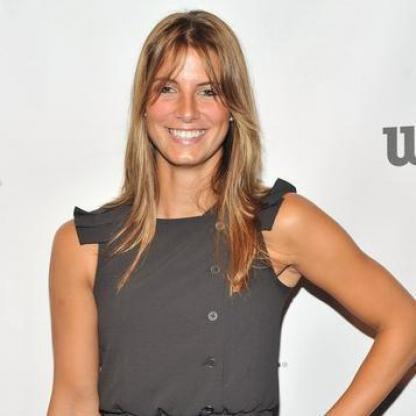long-hair: (106, 165, 269, 224)
